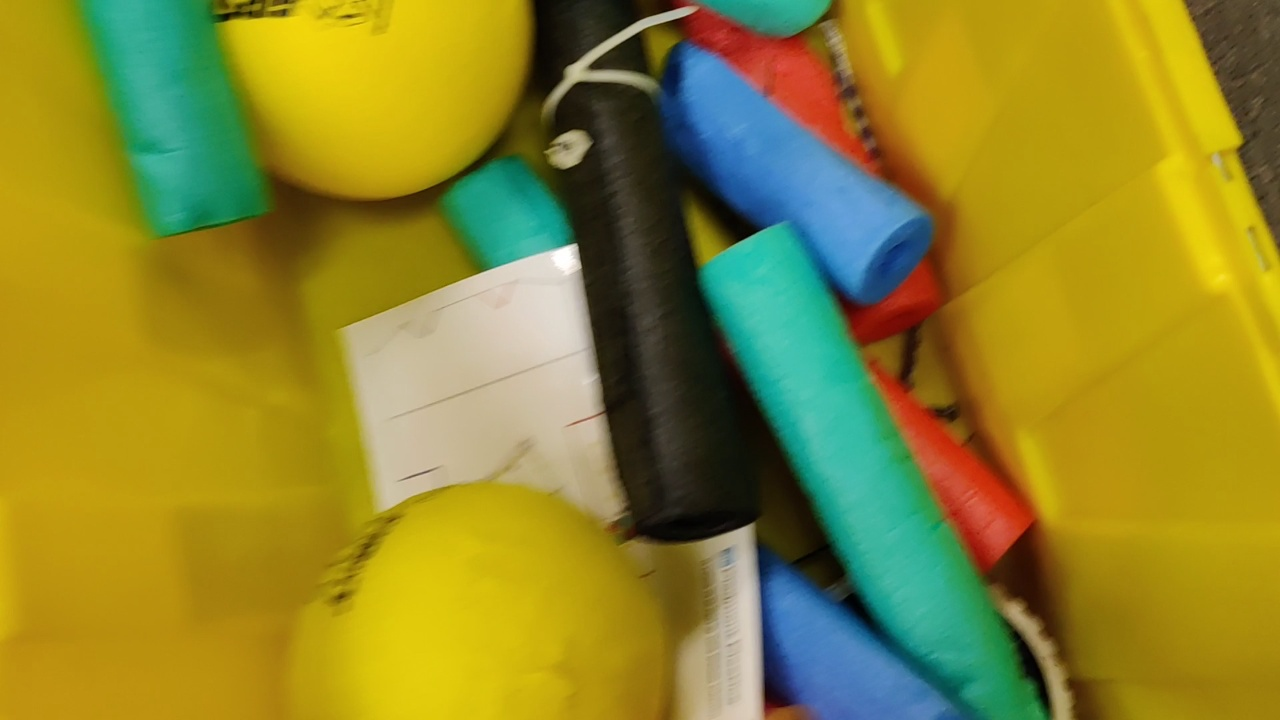Ball: (287, 483, 681, 720)
